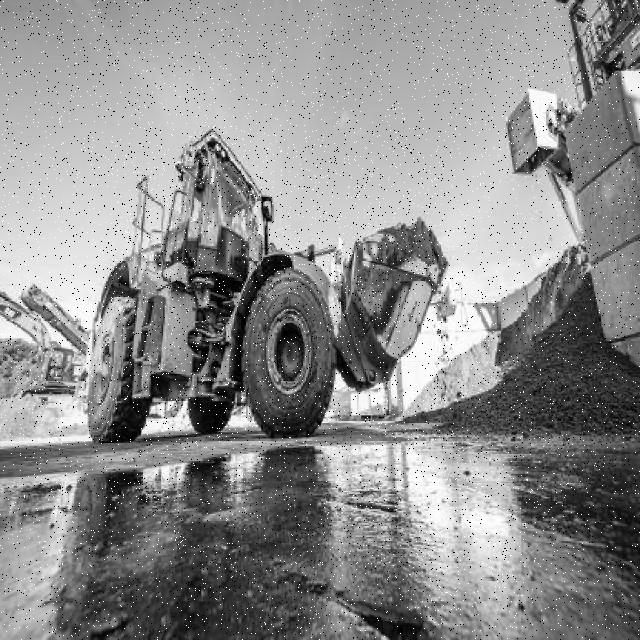Construction Equipment: (86, 130, 449, 446)
